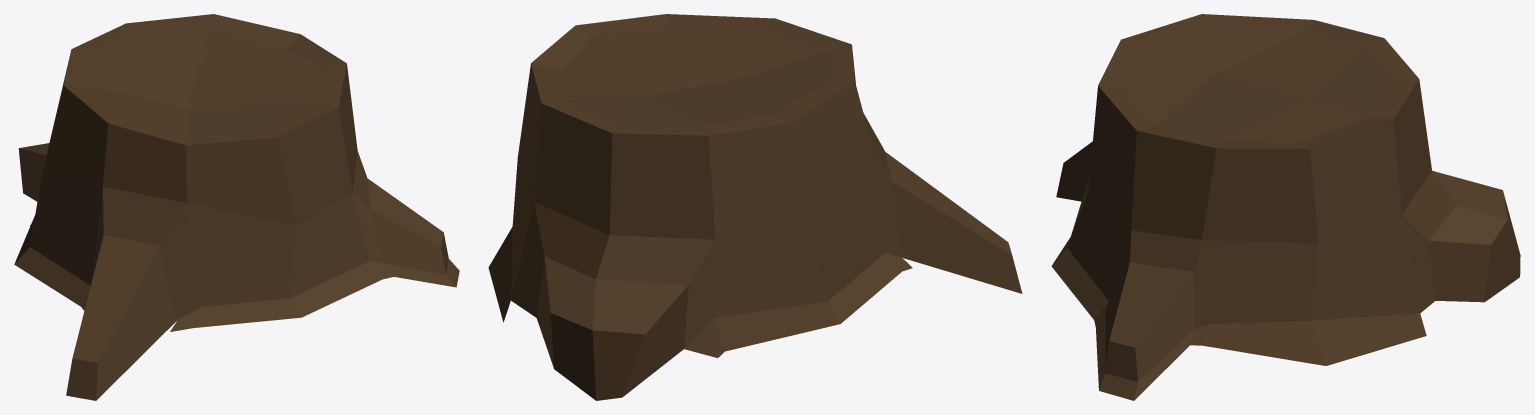
The model's file is treeStump.fbx.
3 renders of one model, left to right at view 1: azimuth 30°, elevation 25°; view 2: azimuth 150°, elevation 25°; view 3: azimuth 270°, elevation 25°, orthographic. The views are drawn at different scales.
Parts seen in each view (by area): view 1: treeStump; view 2: treeStump; view 3: treeStump.
Boxes of the visible parts, left/top/right/bottom form: treeStump: left=14, top=14, right=459, bottom=400; treeStump: left=488, top=14, right=1022, bottom=400; treeStump: left=1051, top=14, right=1520, bottom=400.
Bounding box in the file's own units: 102 × 49.18 × 92.45.
